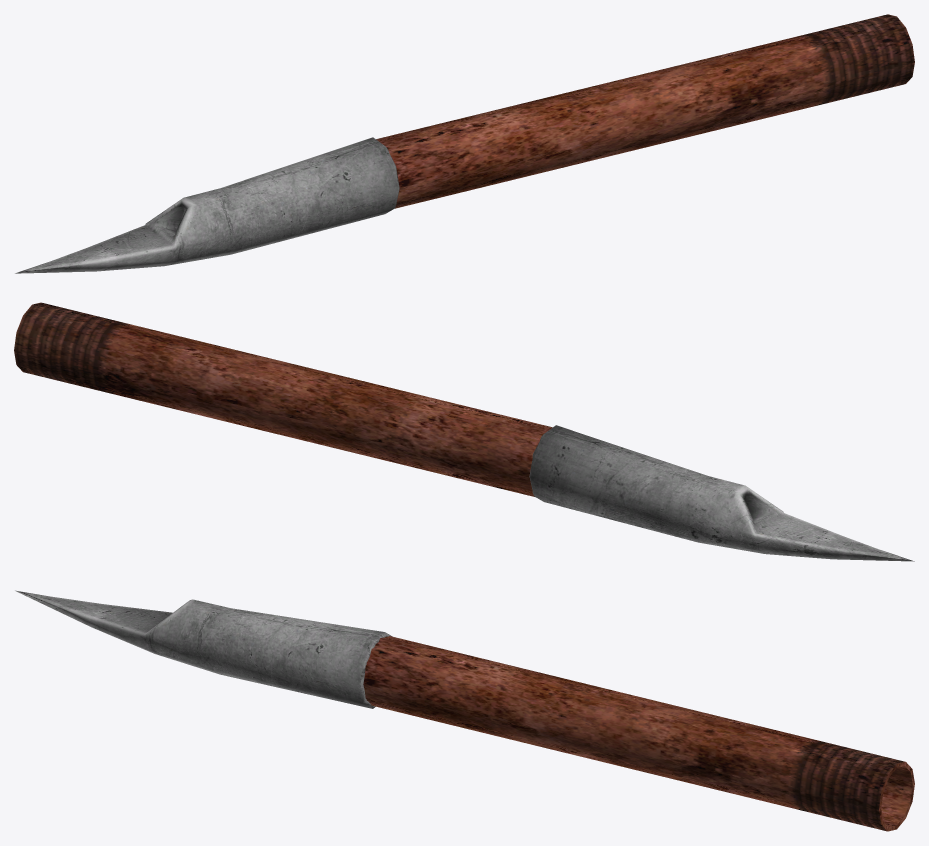
The model's file is copper_tube_and_needle.dae.
3 renders of one model, top to bottom at view 1: azimuth 30°, elevation 25°; view 2: azimuth 150°, elevation 25°; view 3: azimuth 330°, elevation 25°, orthographic.
Parts seen in each view (by area): view 1: pPipe1, hollow_needle; view 2: pPipe1, hollow_needle; view 3: pPipe1, hollow_needle.
Part boxes in pixels (x1,y1,x2,y2): pPipe1: (376, 14, 914, 208); hollow_needle: (15, 137, 399, 273); pPipe1: (14, 302, 552, 496); hollow_needle: (529, 425, 914, 561); pPipe1: (363, 636, 914, 831); hollow_needle: (15, 590, 392, 708).
Size of the model in its own units: 52.13 by 4.04 by 4.03.
